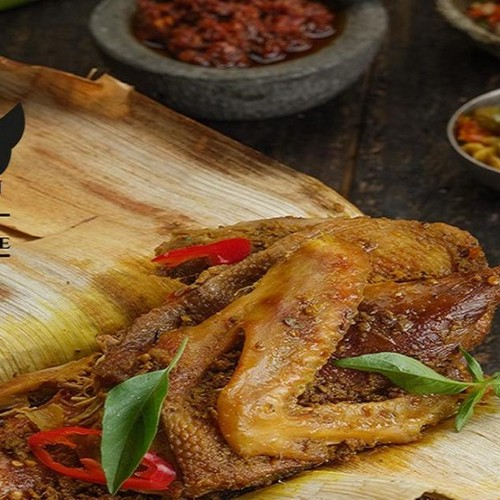bebek timbungan: (78, 211, 497, 500)
